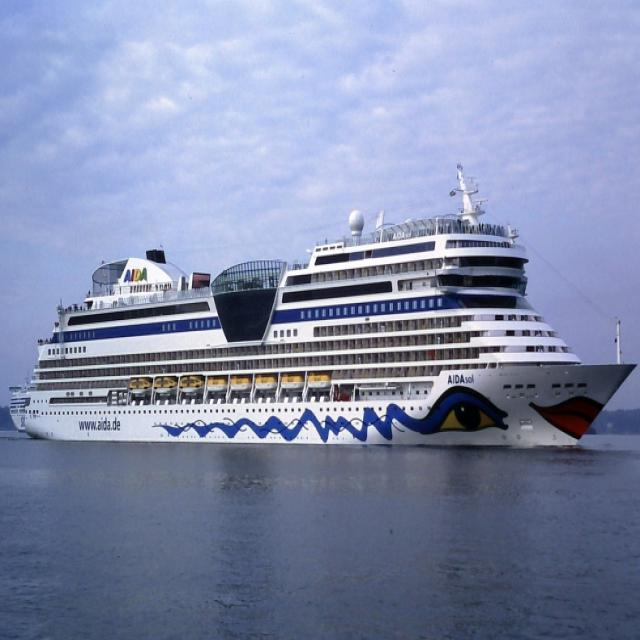cruises: (21, 160, 640, 456)
